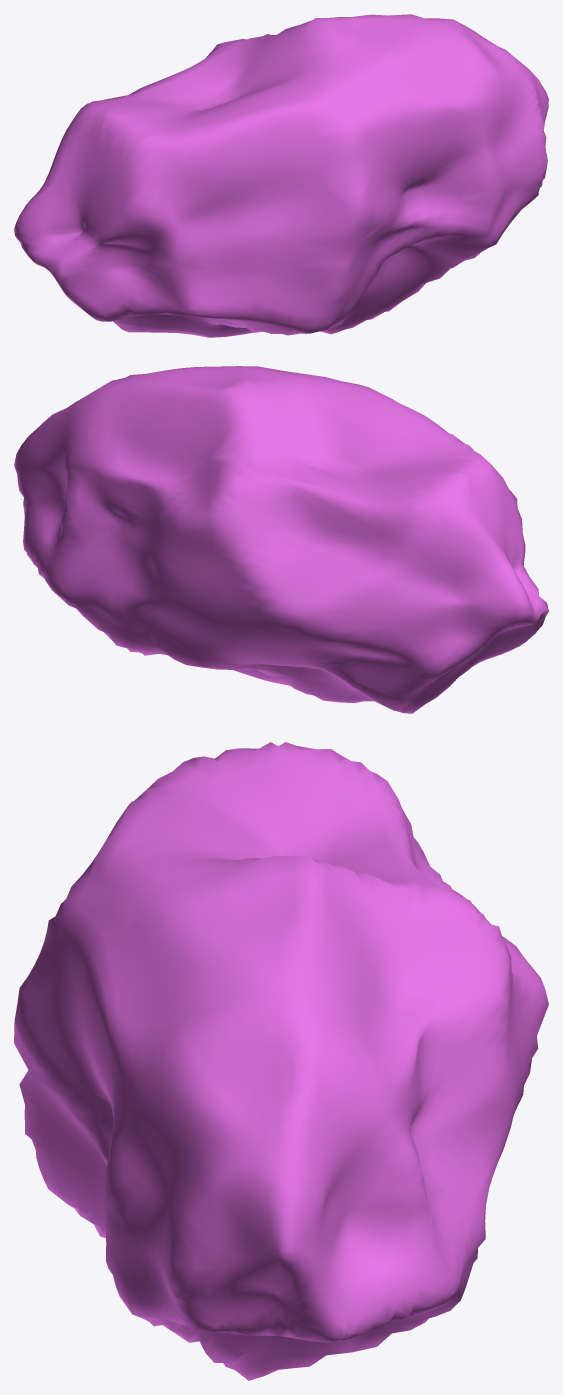
The model's file is GemProxy.fbx.
3 renders of one model, top to bottom at view 1: azimuth 30°, elevation 25°; view 2: azimuth 150°, elevation 25°; view 3: azimuth 270°, elevation 25°, orthographic. The views are drawn at different scales.
Parts seen in each view (by area): view 1: Gem; view 2: Gem; view 3: Gem.
Part boxes in pixels (x1,y1,x2,y2): Gem: (14, 14, 548, 337); Gem: (14, 366, 548, 713); Gem: (14, 742, 548, 1380).
Size of the model in its own units: 29.39 by 16.03 by 15.91.
